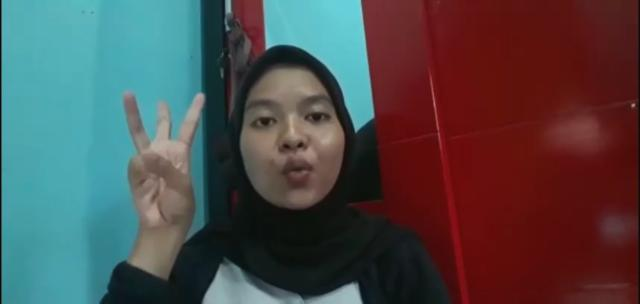W: (120, 86, 206, 228)
